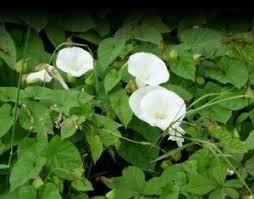bindweed: (127, 85, 187, 132), (127, 49, 170, 91), (55, 45, 95, 78)
